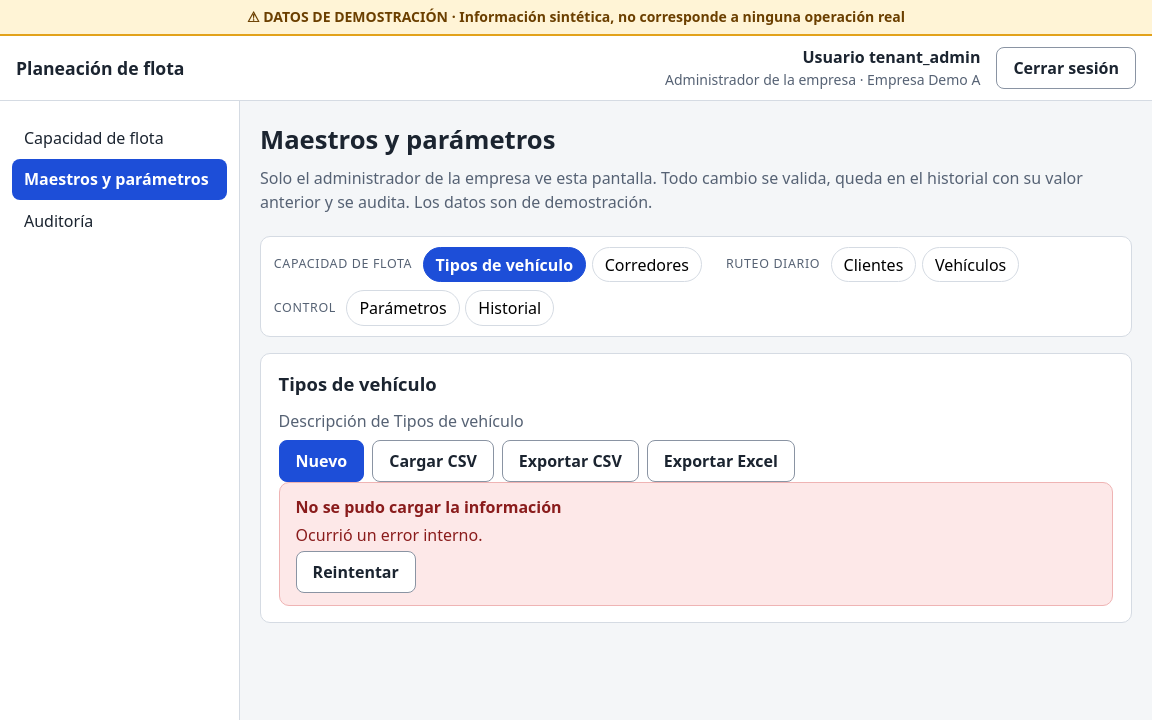
tablas de maestros › un error de carga ofrece reintentar
Click the button "Reintentar" at (356, 572), box [296,550,416,592]
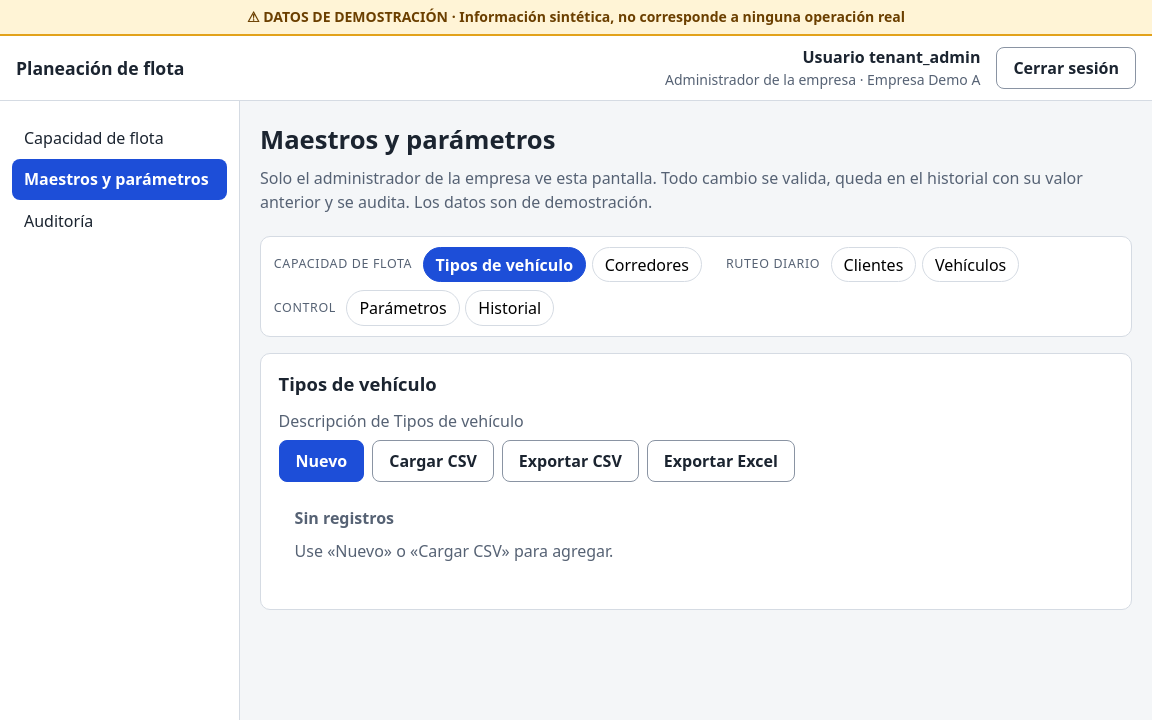
Now the text "Sin registros" is shown, box [295,506,394,530]
